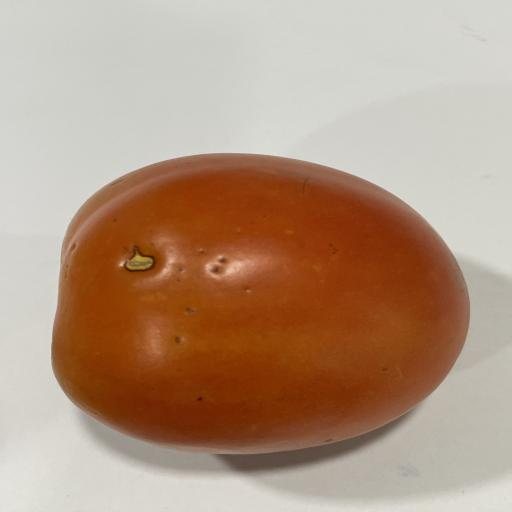ripe: (51, 154, 469, 454)
